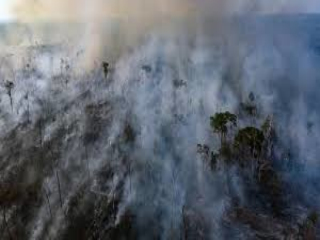smoke: (148, 16, 307, 112), (77, 7, 128, 82), (104, 164, 143, 222)
